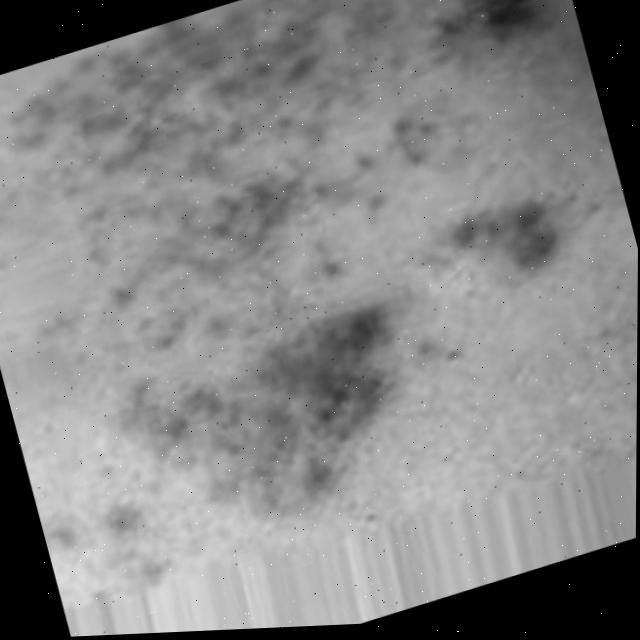Shingles: (5, 0, 379, 314), (131, 295, 395, 544), (449, 170, 559, 288), (407, 0, 528, 72)
